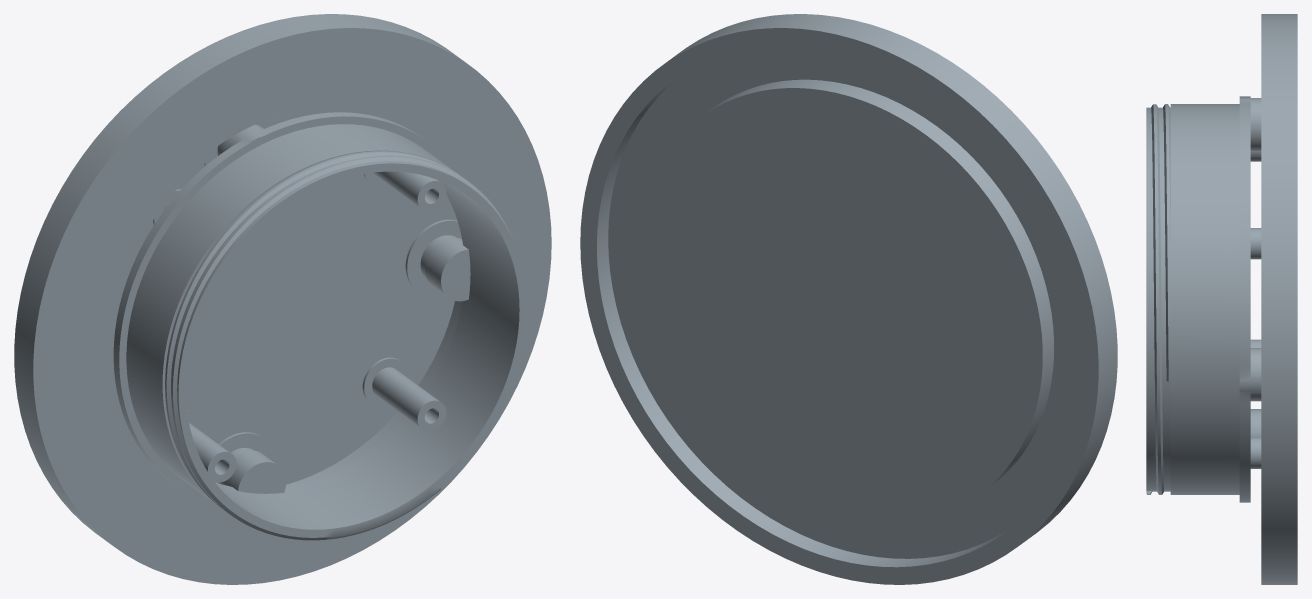
Rendered from Stationary_Base.glb.
The picture shows the model from 3 angles, left to right: view 1: azimuth 30°, elevation 25°; view 2: azimuth 150°, elevation 25°; view 3: azimuth 270°, elevation 25°; orthographic projection. The views are drawn at different scales.
Parts seen in each view (by area): view 1: Stationary_Base_0; view 2: Stationary_Base_0; view 3: Stationary_Base_0.
Part boxes in pixels (box(x1,y1,x2,y2)): Stationary_Base_0: box(14, 14, 551, 584); Stationary_Base_0: box(580, 14, 1117, 584); Stationary_Base_0: box(1146, 14, 1297, 584).
Bounding box in the file's own units: 57.98 × 57.99 × 15.4.
